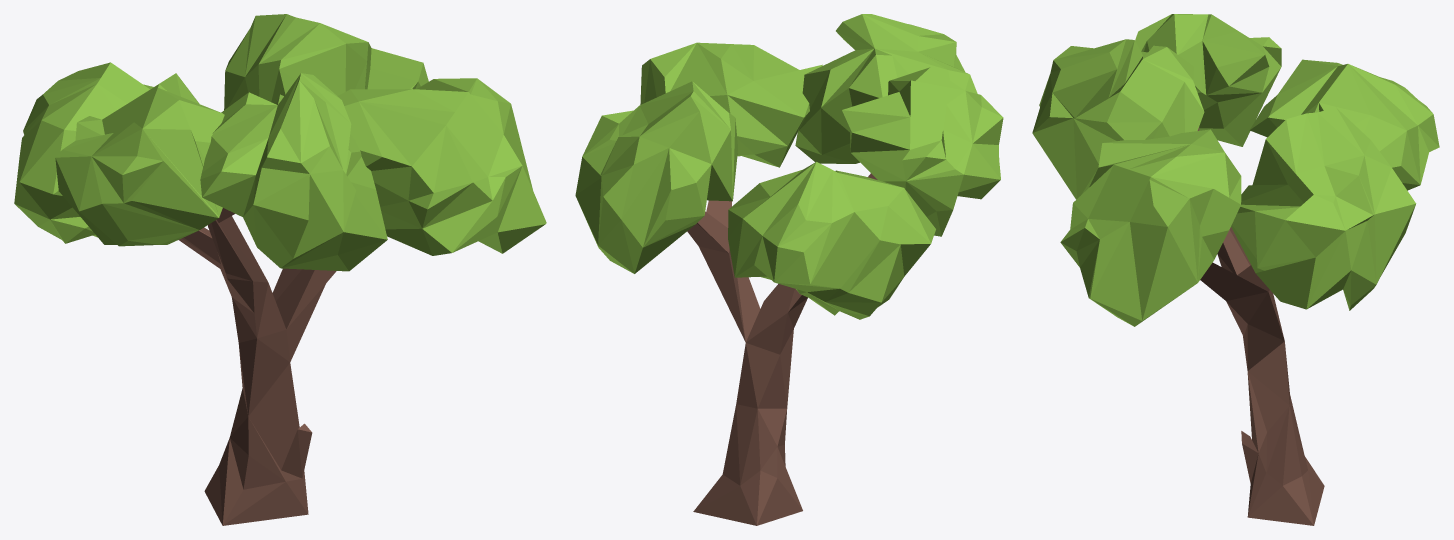
3 views of the same model, side by side, from view 1: azimuth 30°, elevation 25°; view 2: azimuth 150°, elevation 25°; view 3: azimuth 270°, elevation 25° (orthographic). The views are drawn at different scales.
Visible parts, largest first — view 1: default; view 2: default; view 3: default.
Boxes of the visible parts, bbox=[...] form: default: bbox=[14, 14, 546, 525]; default: bbox=[575, 14, 1003, 525]; default: bbox=[1032, 14, 1439, 525].
Size of the model in its own units: 2.19 by 2.46 by 2.03.
